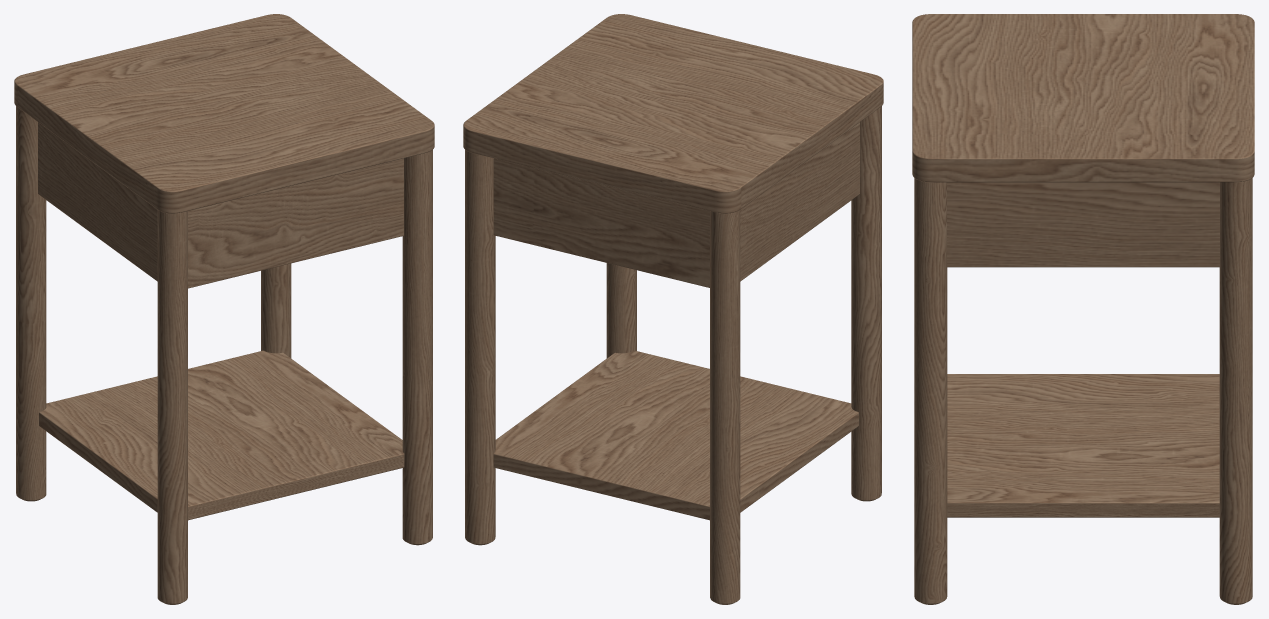
Rendered from Model_Tonstad_FINAL.glb.
3 views of the same model, side by side, from view 1: azimuth 30°, elevation 25°; view 2: azimuth 150°, elevation 25°; view 3: azimuth 270°, elevation 25° (orthographic). The views are drawn at different scales.
Visible parts, largest first — view 1: model_Tonstad, Cube.002, anim_Cajon_1; view 2: model_Tonstad, Cube.002; view 3: model_Tonstad, Cube.002.
Boxes of the visible parts, left/top/right/bottom form: model_Tonstad: left=14, top=14, right=434, bottom=520; Cube.002: left=16, top=106, right=432, bottom=604; anim_Cajon_1: left=188, top=158, right=403, bottom=288; model_Tonstad: left=463, top=14, right=883, bottom=520; Cube.002: left=465, top=106, right=881, bottom=604; model_Tonstad: left=912, top=14, right=1254, bottom=517; Cube.002: left=914, top=178, right=1252, bottom=604.
Bounding box in the file's own units: 0.4028 × 0.583 × 0.4028.
1 material, 1 textured.
